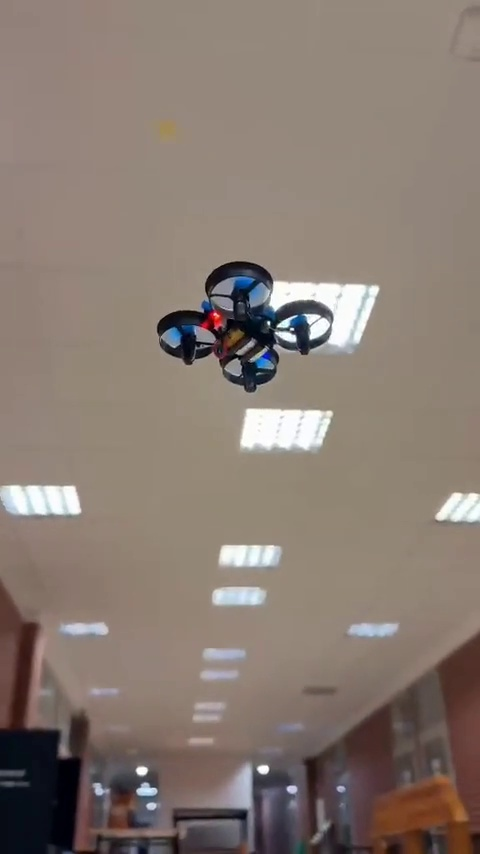drone: (155, 258, 334, 391)
